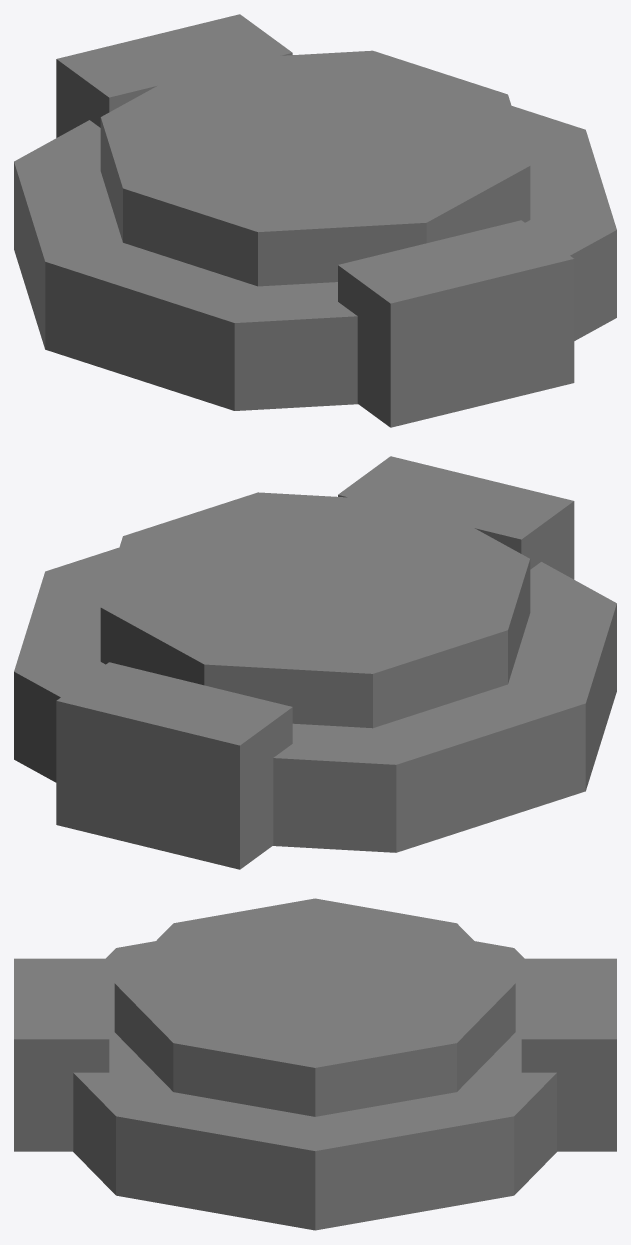
Rendered from MisiileBase.obj.
3 renders of one model, top to bottom at view 1: azimuth 30°, elevation 25°; view 2: azimuth 150°, elevation 25°; view 3: azimuth 270°, elevation 25°, orthographic. The views are drawn at different scales.
Parts seen in each view (by area): view 1: MisileBase; view 2: MisileBase; view 3: MisileBase.
Part boxes in pixels (x1,y1,x2,y2): MisileBase: [14, 14, 616, 427]; MisileBase: [14, 456, 616, 869]; MisileBase: [14, 898, 616, 1230].
Bounding box in the file's own units: 5.89 × 1.48 × 6.31.
